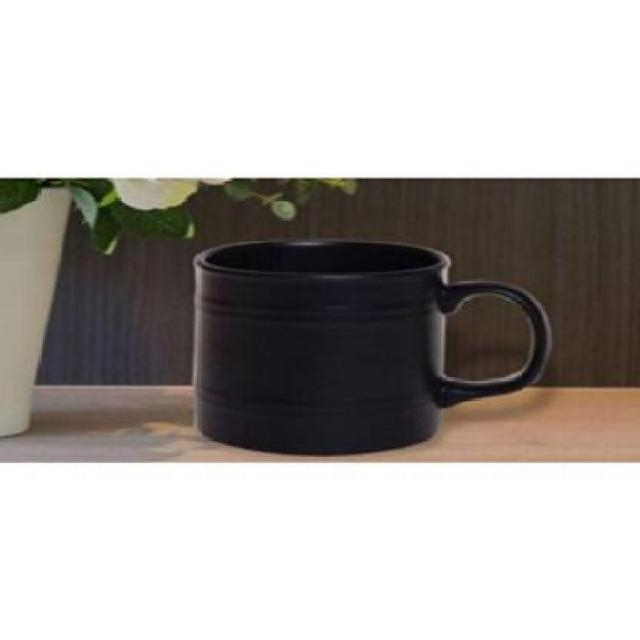taza: (192, 236, 553, 459)
